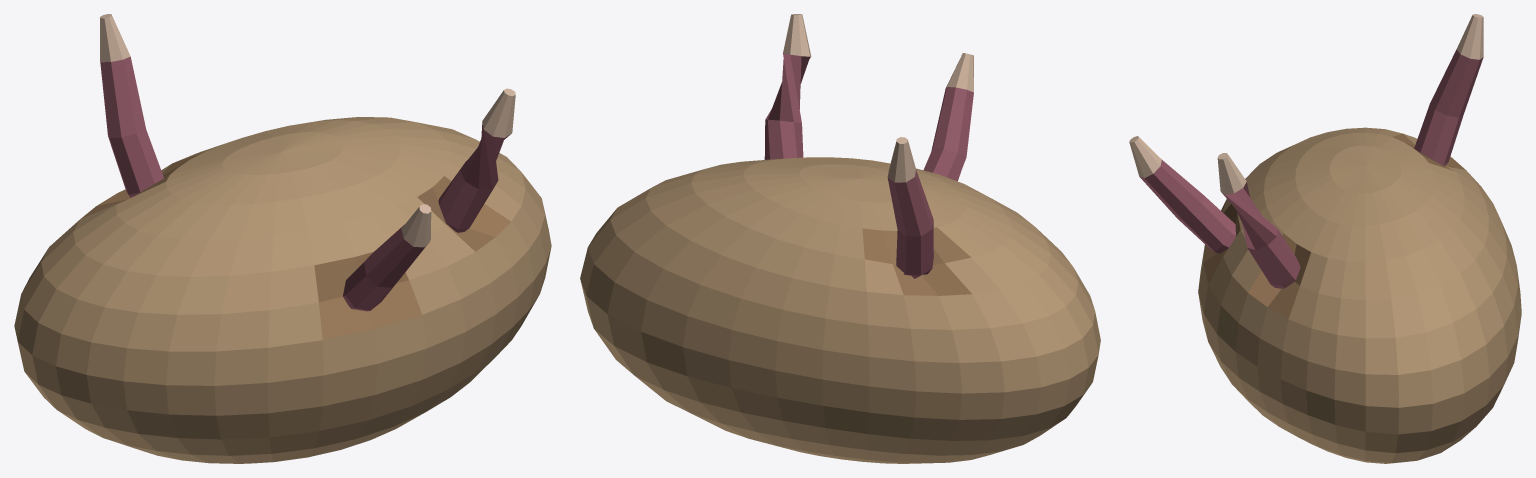
3 views of the same model, side by side, from view 1: azimuth 30°, elevation 25°; view 2: azimuth 150°, elevation 25°; view 3: azimuth 270°, elevation 25° (orthographic). The views are drawn at different scales.
Visible parts, largest first — view 1: WholeIrregularEyeDimpledTuber, WholeShortCurvedEyeBud3, WholeShortCurvedEyeBud2, WholeShortCurvedEyeBud1; view 2: WholeIrregularEyeDimpledTuber, WholeShortCurvedEyeBud3, WholeShortCurvedEyeBud2, WholeShortCurvedEyeBud1; view 3: WholeIrregularEyeDimpledTuber, WholeShortCurvedEyeBud3, WholeShortCurvedEyeBud1, WholeShortCurvedEyeBud2.
Part boxes in pixels (x1,y1,x2,y2): WholeIrregularEyeDimpledTuber: [14, 117, 551, 463]; WholeShortCurvedEyeBud3: [100, 14, 163, 197]; WholeShortCurvedEyeBud2: [438, 88, 515, 232]; WholeShortCurvedEyeBud1: [343, 204, 431, 311]; WholeIrregularEyeDimpledTuber: [580, 157, 1100, 463]; WholeShortCurvedEyeBud3: [887, 137, 933, 278]; WholeShortCurvedEyeBud2: [764, 14, 811, 159]; WholeShortCurvedEyeBud1: [923, 53, 973, 181]; WholeIrregularEyeDimpledTuber: [1198, 127, 1521, 463]; WholeShortCurvedEyeBud3: [1414, 14, 1483, 165]; WholeShortCurvedEyeBud1: [1129, 136, 1235, 253]; WholeShortCurvedEyeBud2: [1217, 153, 1300, 288].
Bounding box in the file's own units: 0.1412 × 0.1043 × 0.1048.
